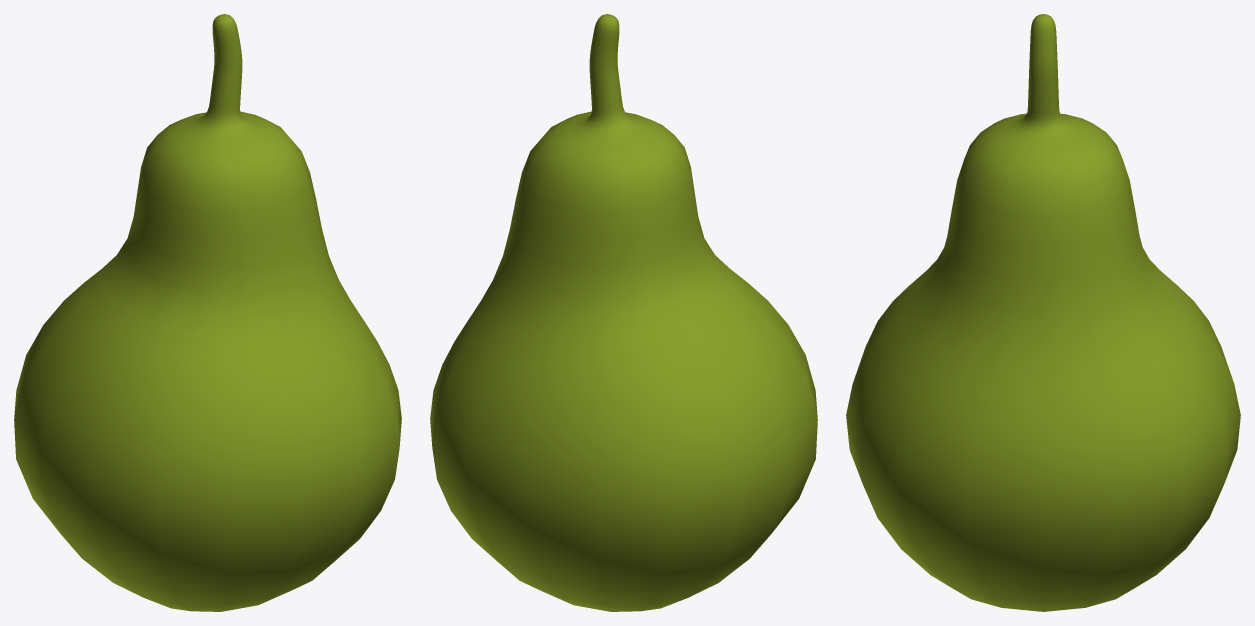
File: pear.glb
3 renders of one model, left to right at view 1: azimuth 30°, elevation 25°; view 2: azimuth 150°, elevation 25°; view 3: azimuth 270°, elevation 25°, orthographic. The views are drawn at different scales.
Visible parts, largest first — view 1: pear; view 2: pear; view 3: pear.
Part boxes in pixels (<box>): pear: <box>14,14,401,611</box>; pear: <box>430,14,817,611</box>; pear: <box>846,14,1240,611</box>.
Bounding box in the file's own units: 1.48 × 2.44 × 1.48.
